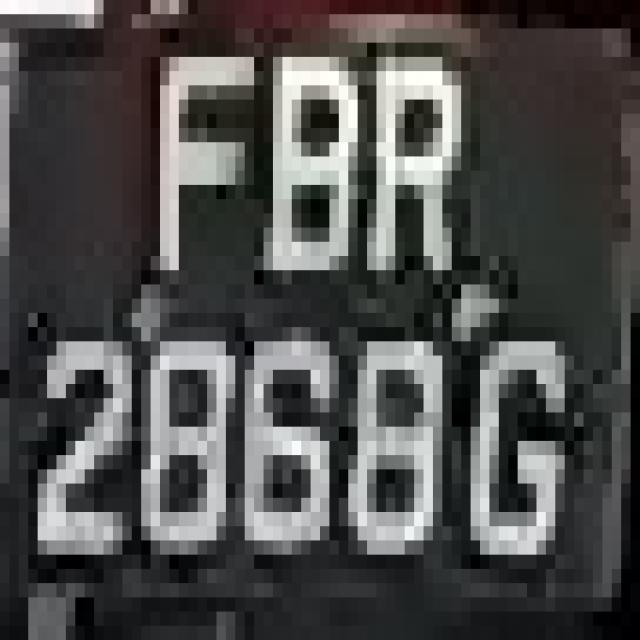2: (28, 299, 122, 569)
6: (226, 284, 348, 598)
8: (339, 256, 433, 583), (132, 299, 245, 569)
B: (245, 57, 376, 313)
F: (141, 42, 245, 298)
G: (452, 298, 574, 612)
R: (348, 43, 489, 327)
